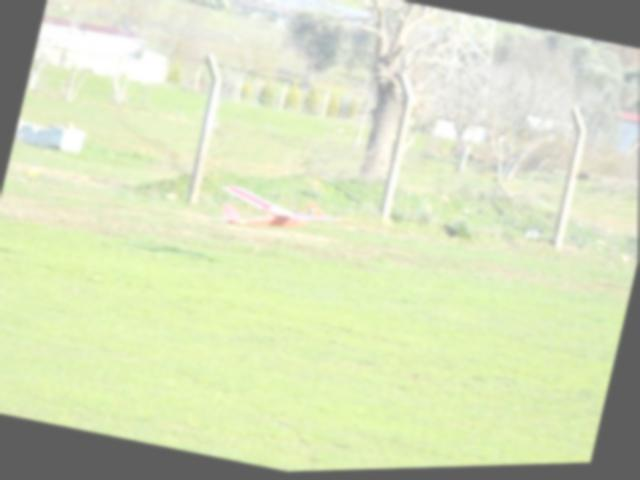iha: (211, 173, 358, 254)
